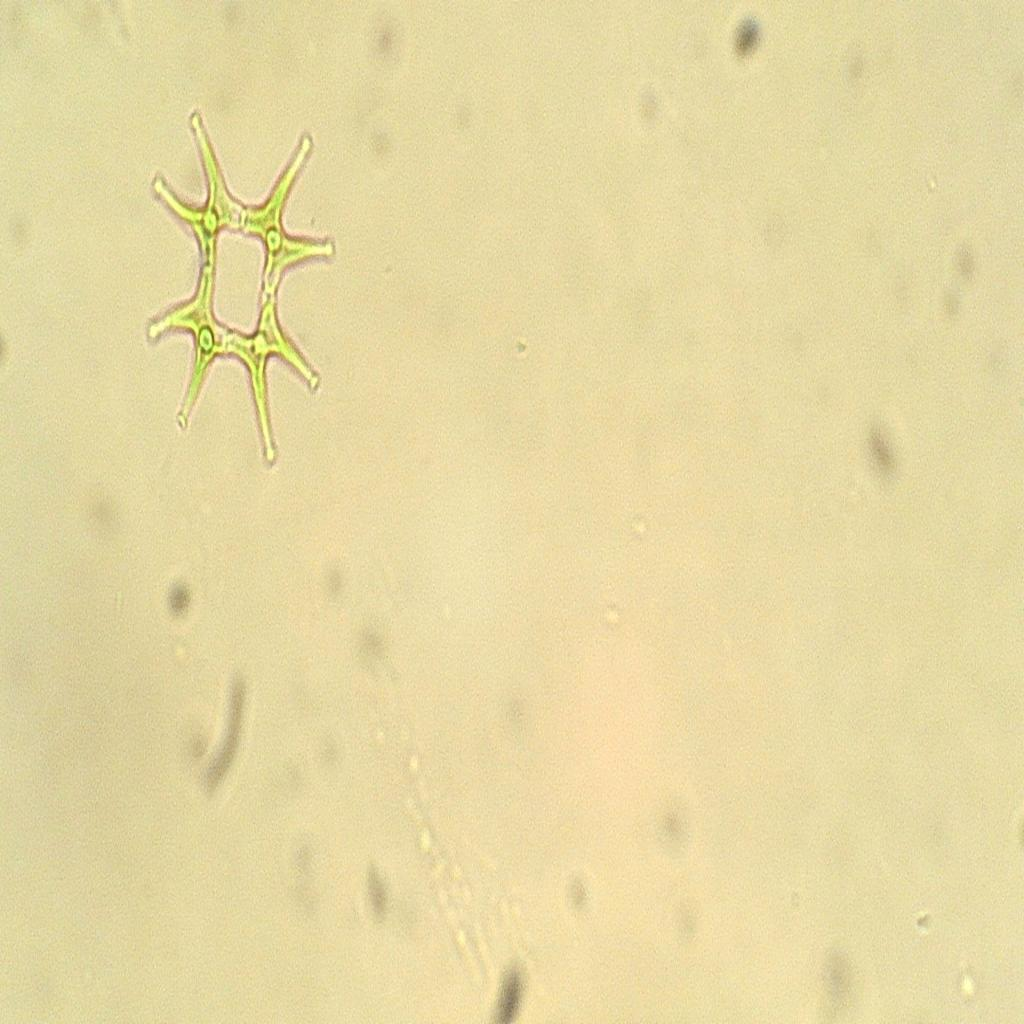Pediastrum_10: (121, 96, 369, 476)
